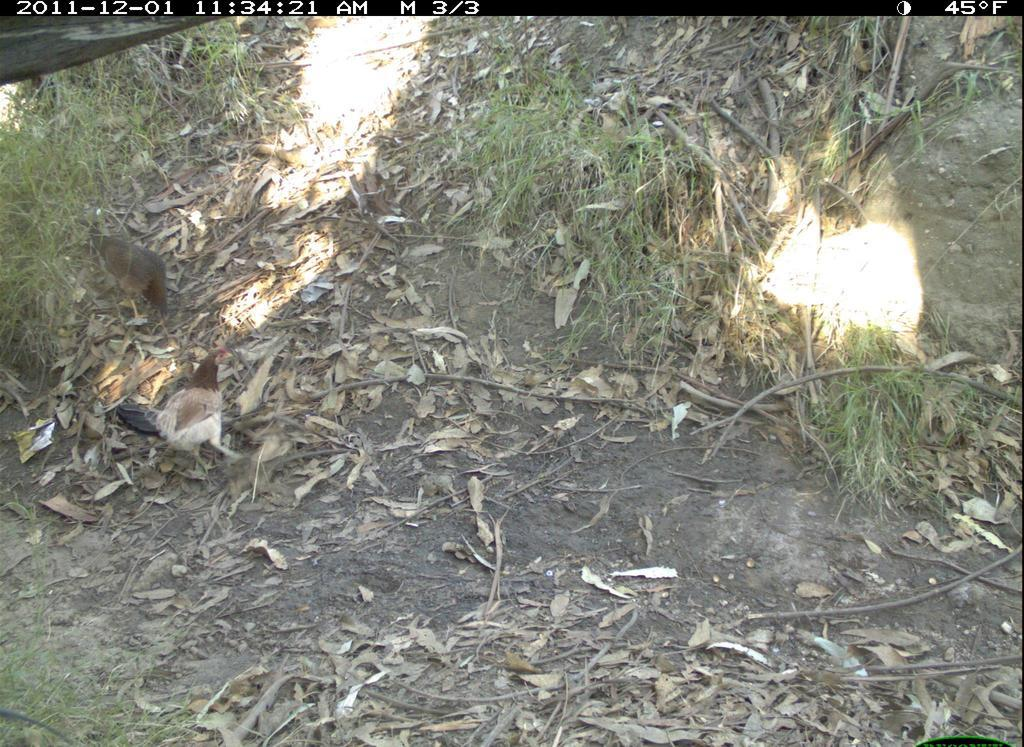bird: (112, 344, 250, 478), (88, 229, 178, 328)
